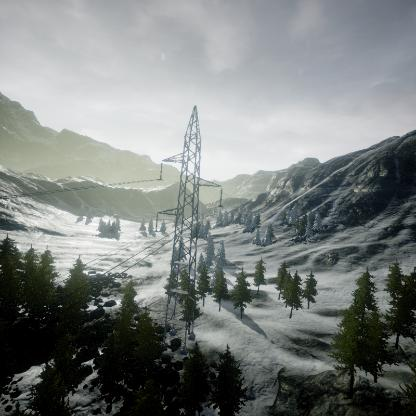tower: (156, 105, 226, 351)
